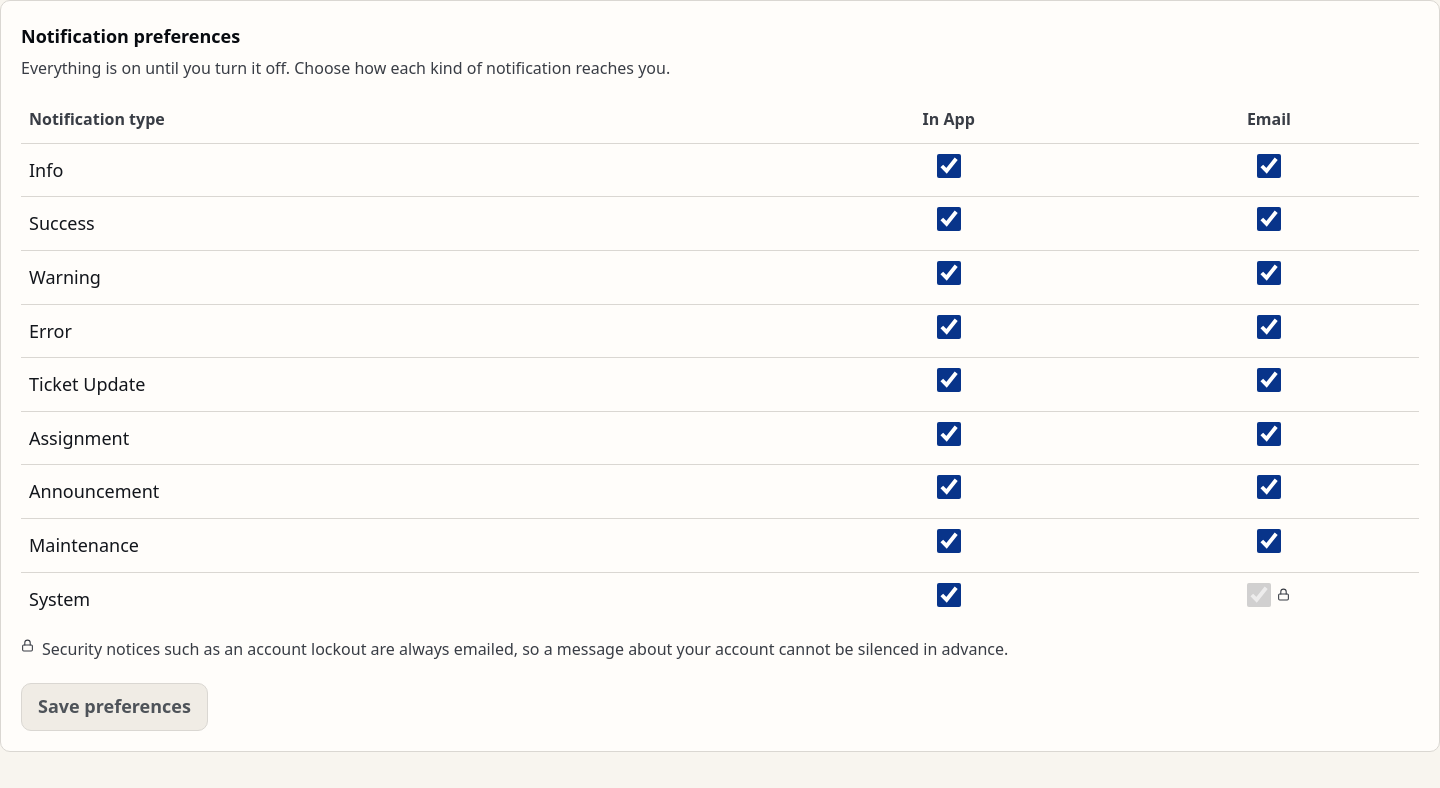
Test: saving › says nothing was changed when the save fails
Step 1. Click the 2nd checkbox named "Email notifications for Info" → [1269, 166], box [1257,154,1281,178]
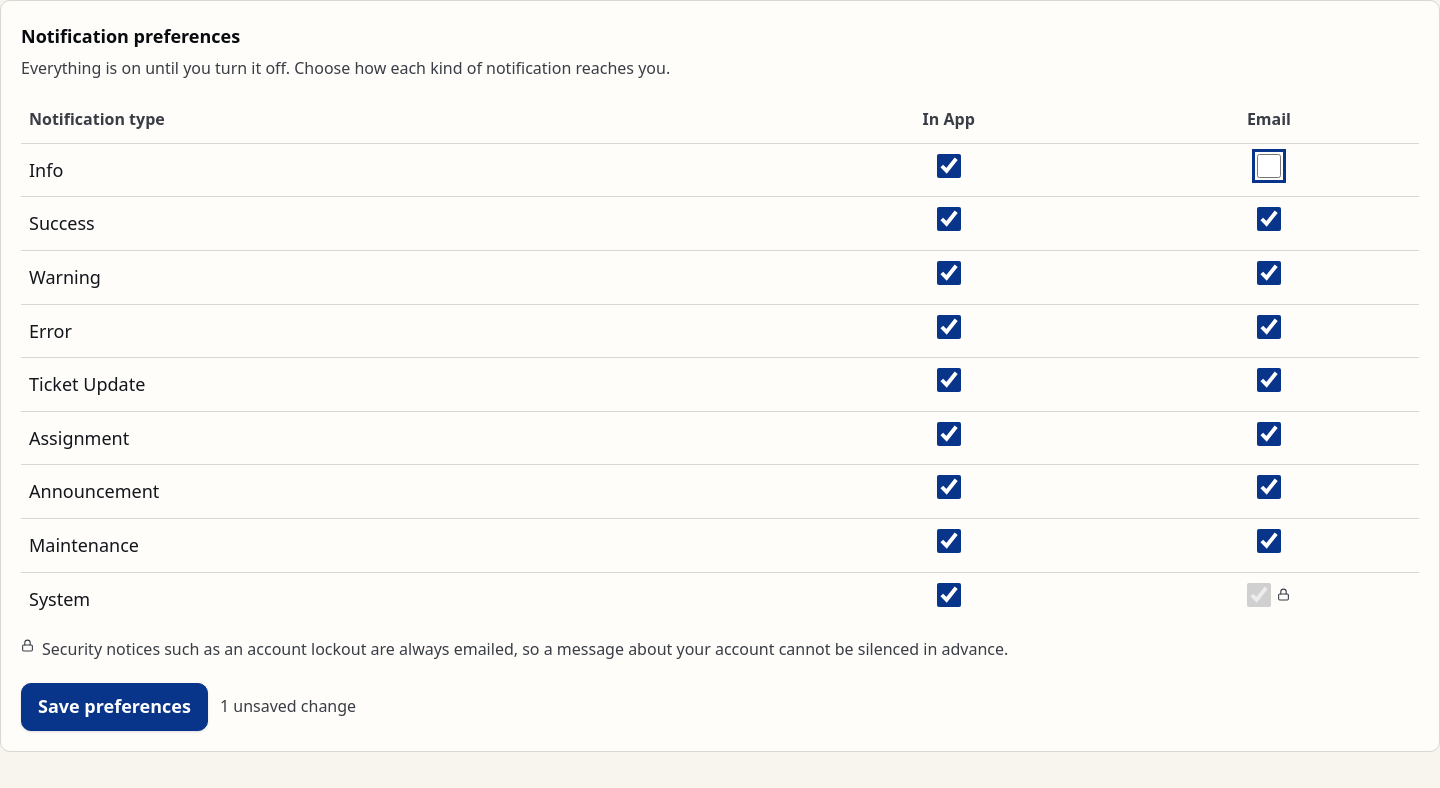
Step 2. Click the button "Save preferences" → [114, 707], box [21,683,208,731]
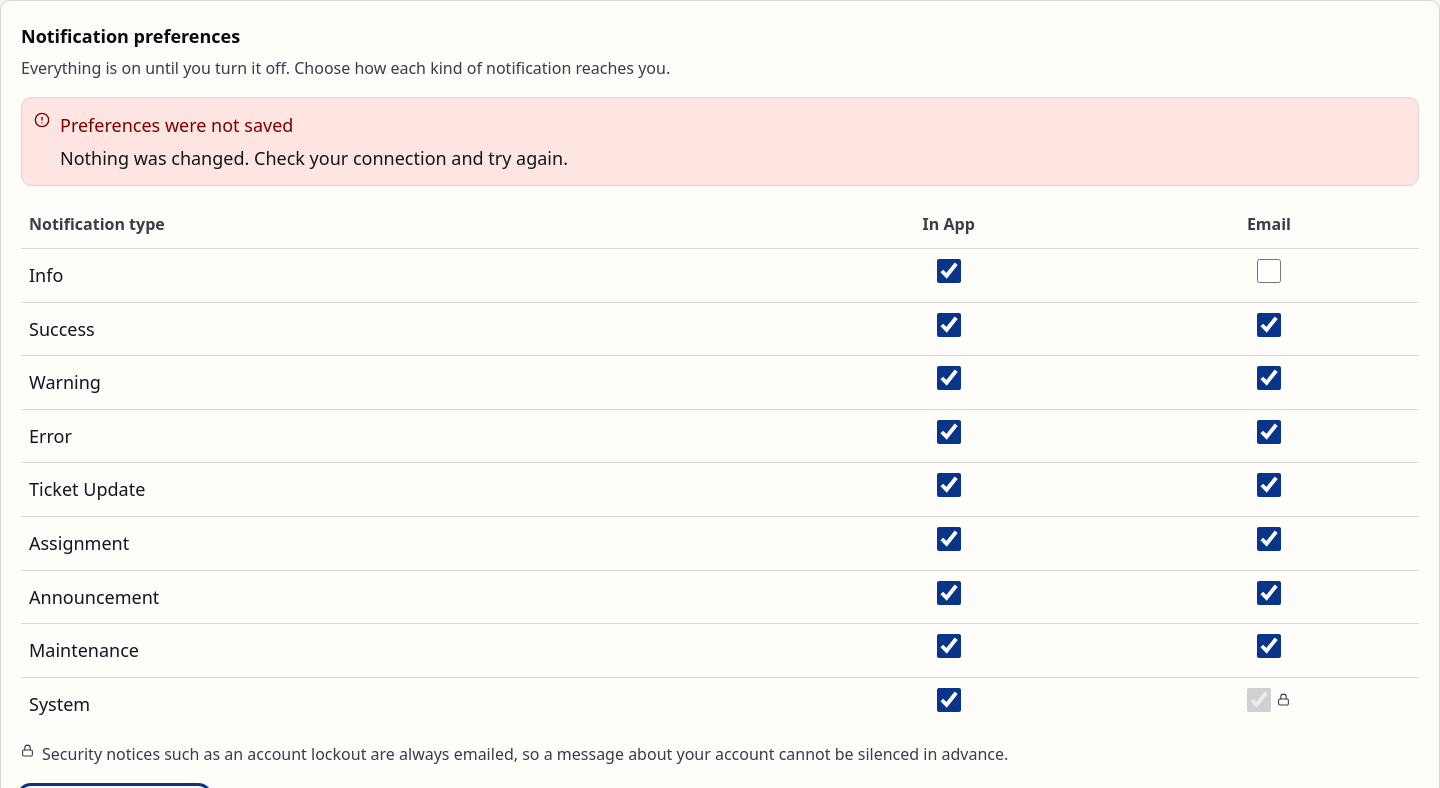
Result: the text "Nothing was changed. Check your connection and try again." is shown at [60,143,568,173]
